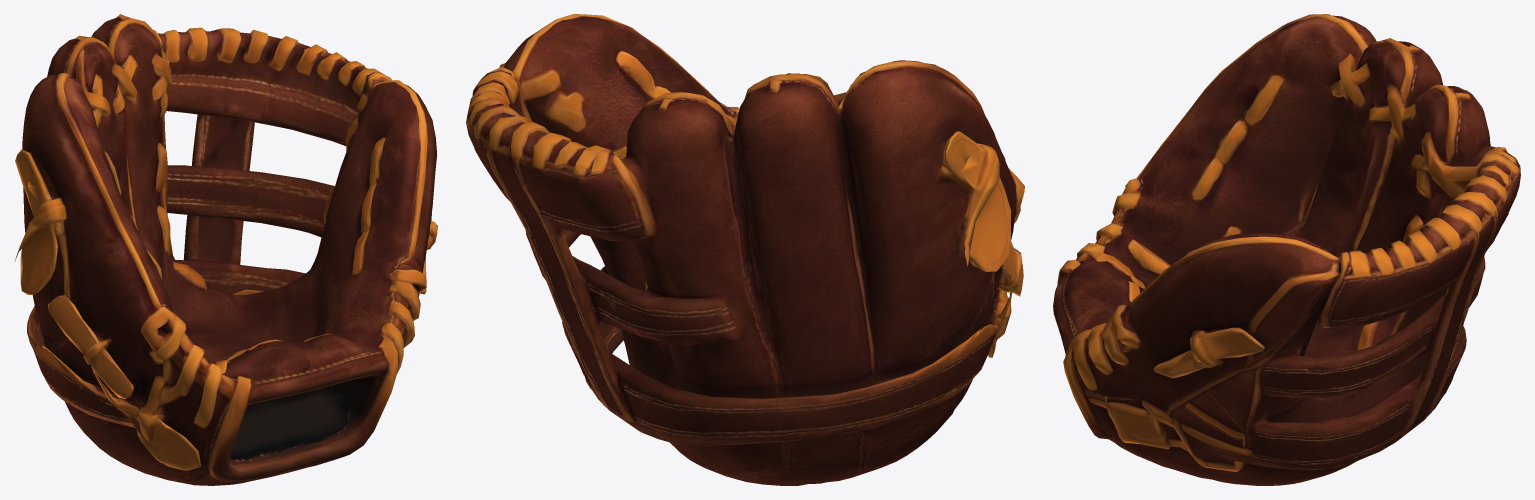
Rendered from glove.glb.
3 renders of one model, left to right at view 1: azimuth 30°, elevation 25°; view 2: azimuth 150°, elevation 25°; view 3: azimuth 270°, elevation 25°, orthographic. The views are drawn at different scales.
Parts seen in each view (by area): view 1: glove; view 2: glove; view 3: glove.
Part boxes in pixels (x1=…): glove: x1=14, y1=14, x2=437, y2=485; glove: x1=466, y1=14, x2=1024, y2=485; glove: x1=1053, y1=14, x2=1520, y2=485.
Bounding box in the file's own units: 0.9983 × 0.8852 × 0.9842.
1 material, 1 textured.
